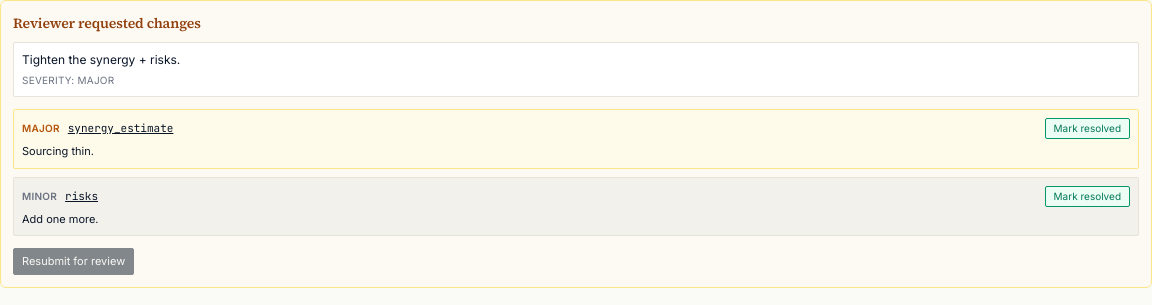
Test: ChangesRequestedPanel › clicking 'Mark resolved' on the major pointer enables resubmit
Click the button with test id "resolve-synergy_estimate". click: (1087, 128)
box: [1045,118,1130,139]
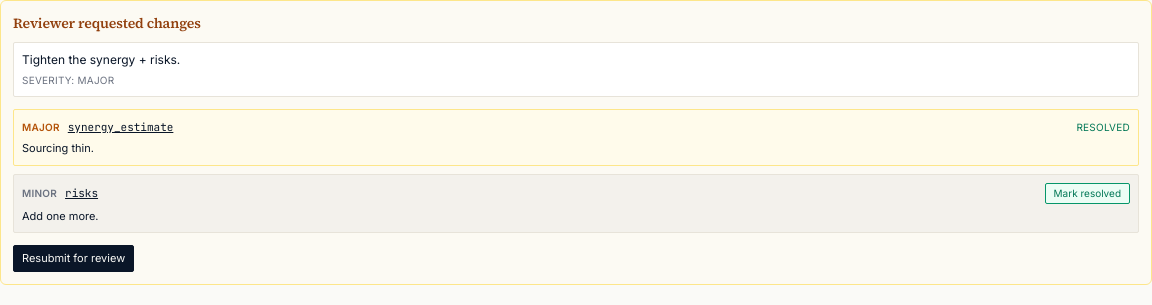
Expected: the text "Resolved" is shown, [1076,121,1130,133]
Expected: the button with test id "resubmit-button" is enabled, [13,245,134,272]
